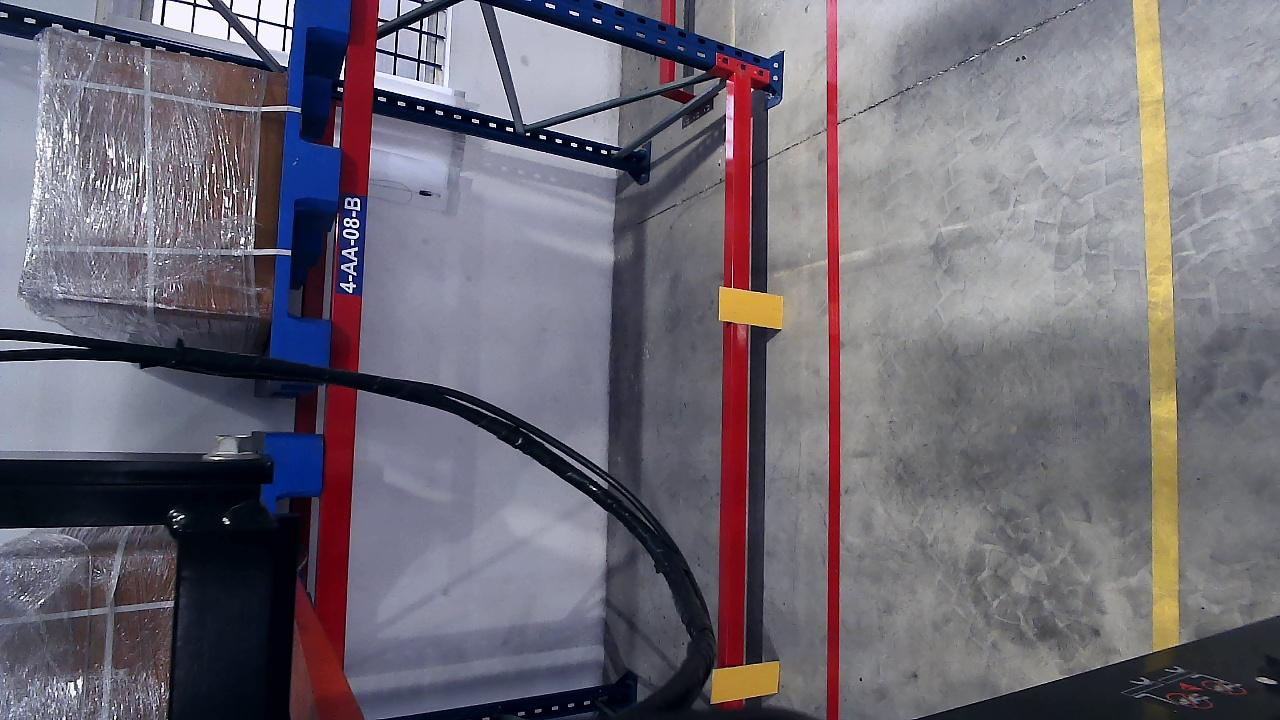h_rack: (326, 1, 382, 630), (724, 66, 758, 653)
orange_strip: (710, 660, 780, 702), (718, 287, 784, 329)
red_line: (822, 0, 845, 720)
small_pallet: (270, 0, 359, 363)
yellow_line: (1135, 0, 1181, 647)
